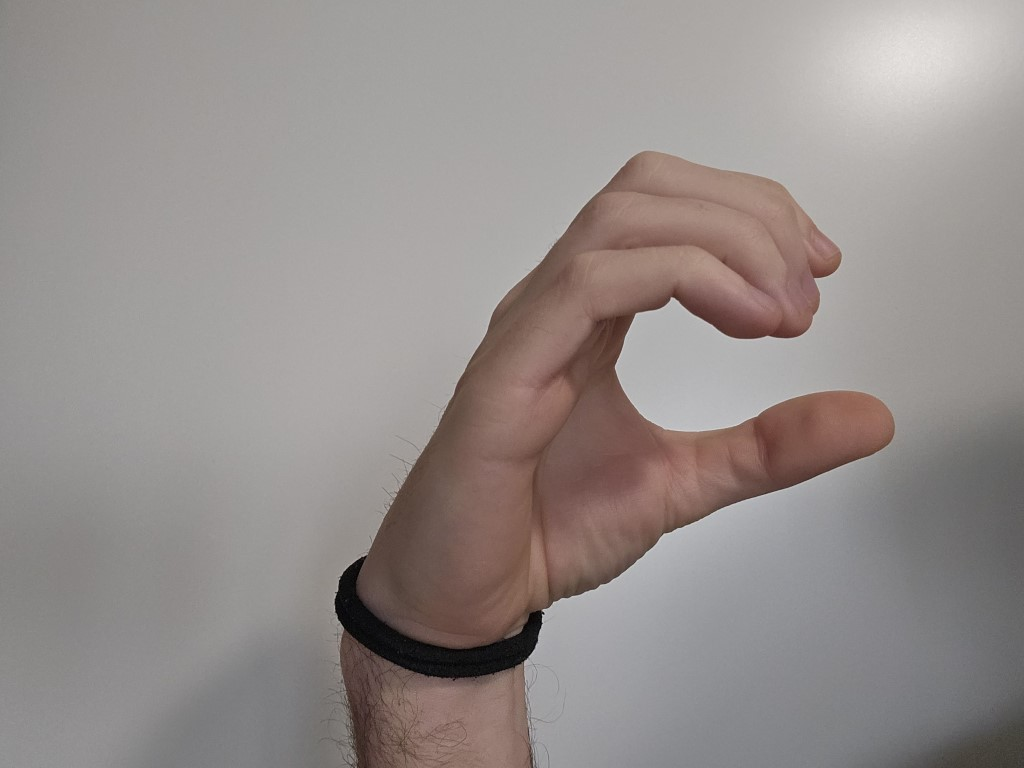c: (344, 108, 946, 611)
